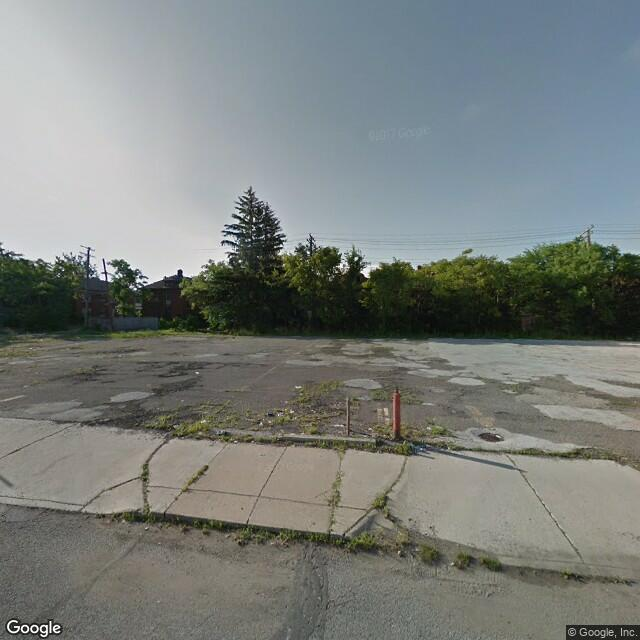litter: (194, 370, 202, 375), (295, 383, 299, 386)
